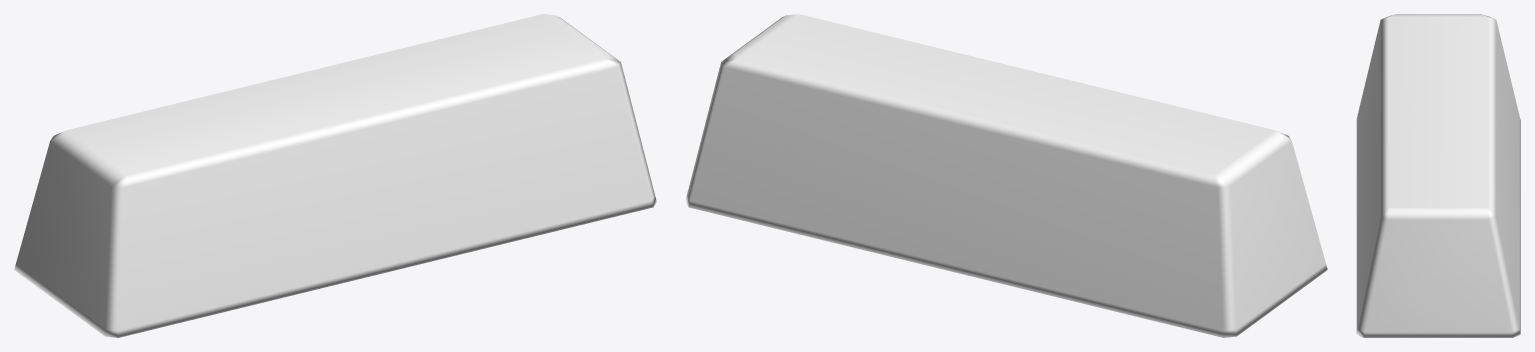
The model's file is SM_RefinedMetal_1a.fbx.
3 views of the same model, side by side, from view 1: azimuth 30°, elevation 25°; view 2: azimuth 150°, elevation 25°; view 3: azimuth 270°, elevation 25° (orthographic). The views are drawn at different scales.
Visible parts, largest first — view 1: RefinedMetal_1a; view 2: RefinedMetal_1a; view 3: RefinedMetal_1a.
Boxes of the visible parts, <box> form: RefinedMetal_1a: <box>14,14,656,337</box>; RefinedMetal_1a: <box>685,14,1327,337</box>; RefinedMetal_1a: <box>1356,14,1520,337</box>.
Bounding box in the file's own units: 0.8441 × 0.2067 × 0.2668.
